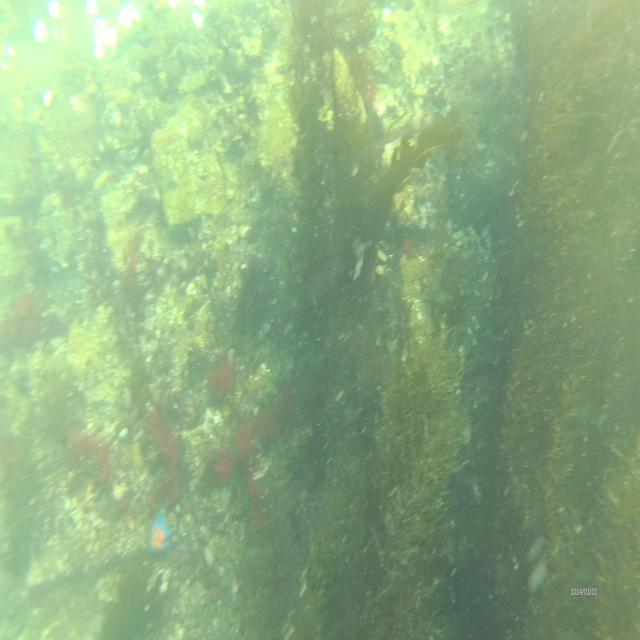starfish: (146, 509, 172, 558)
